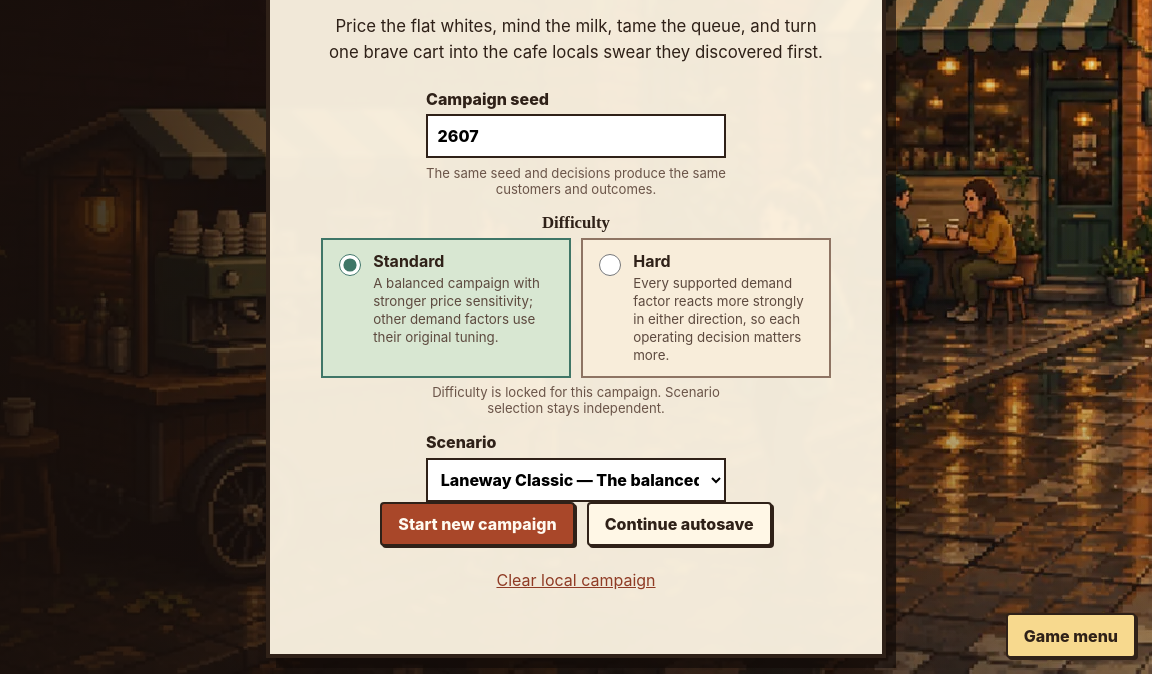
playable cart UI › renders exact lifecycle conservation and the causal expiry day without losing charges
(page scrolled)
What coordinates should you click on to do the following:
click the button "Continue autosave"
I would click on:
 (679, 524)
Its box is [587,502,772,546].
(page scrolled)
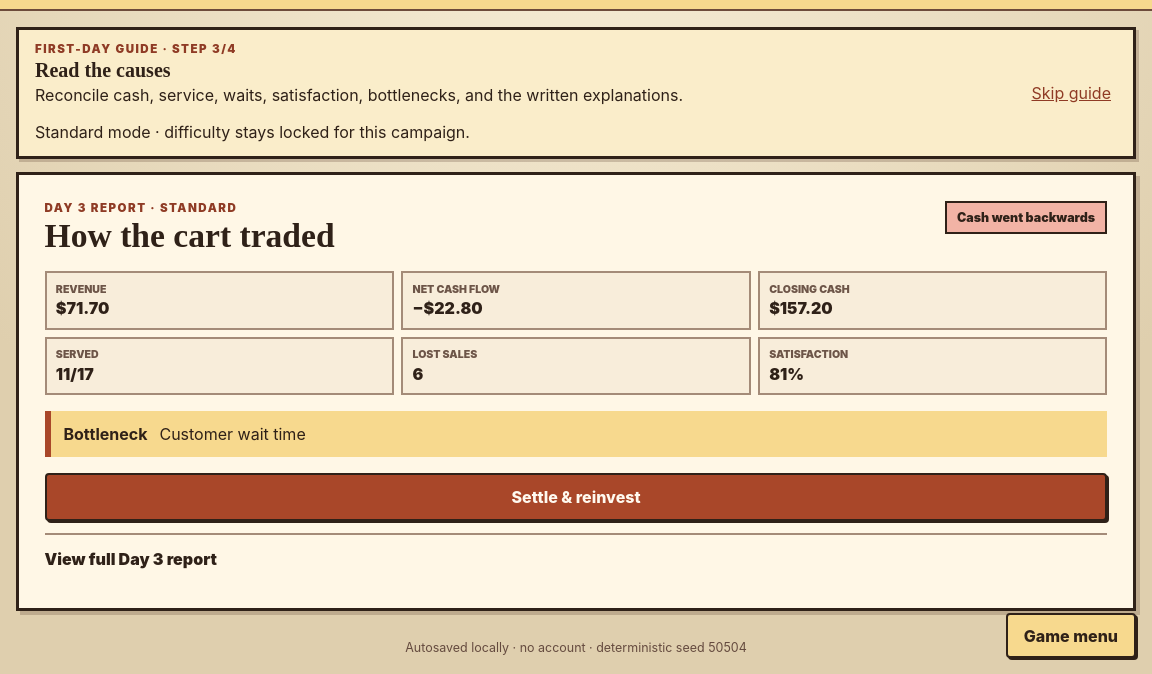
What coordinates should you click on to do the following:
click the heading "View full Day 3 report"
I would click on:
 (131, 559)
Its box is [45,549,217,569].
(page scrolled)
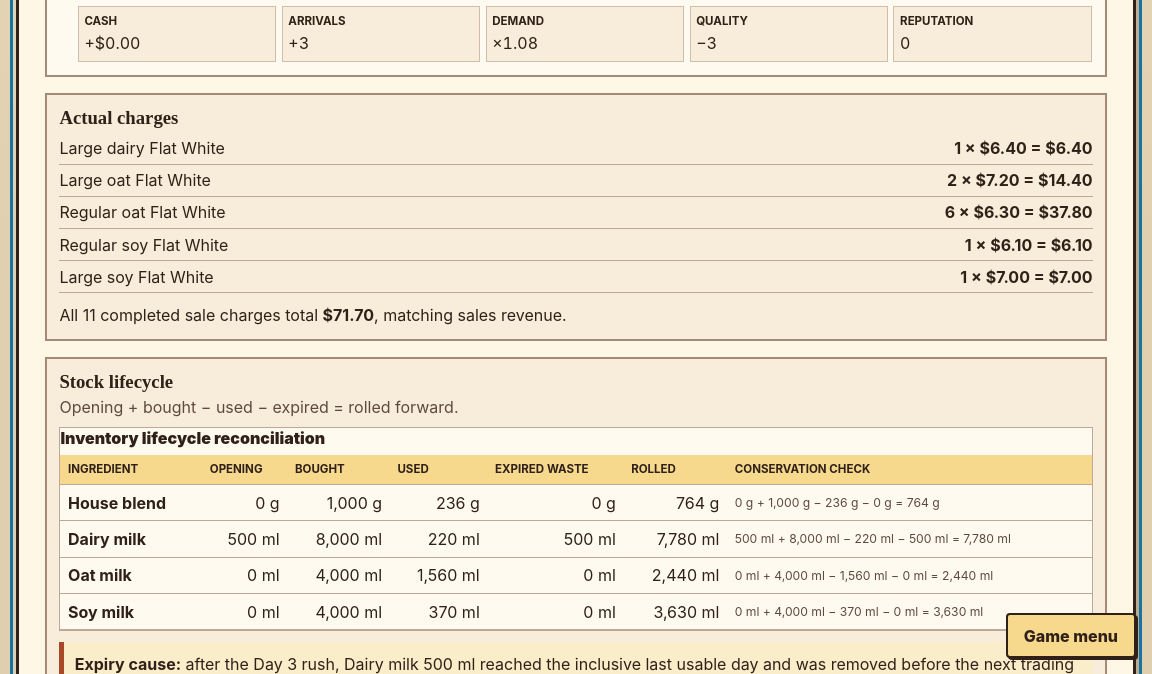
Result: the row "Dairy milk" shows "500 ml" at [228,529,280,549]
Result: the row "Dairy milk" shows "8,000 ml" at [316,529,382,549]
Result: the heading "Actual charges" is shown at [59,107,178,128]
